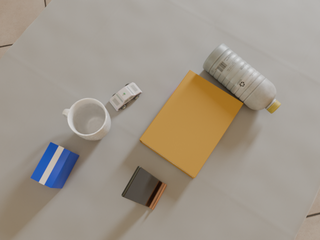book: (140, 70, 244, 178)
bottle: (203, 44, 281, 113)
box: (31, 142, 79, 188)
cup: (62, 98, 111, 140)
phone: (122, 166, 162, 207)
toy_car: (110, 83, 142, 111)
